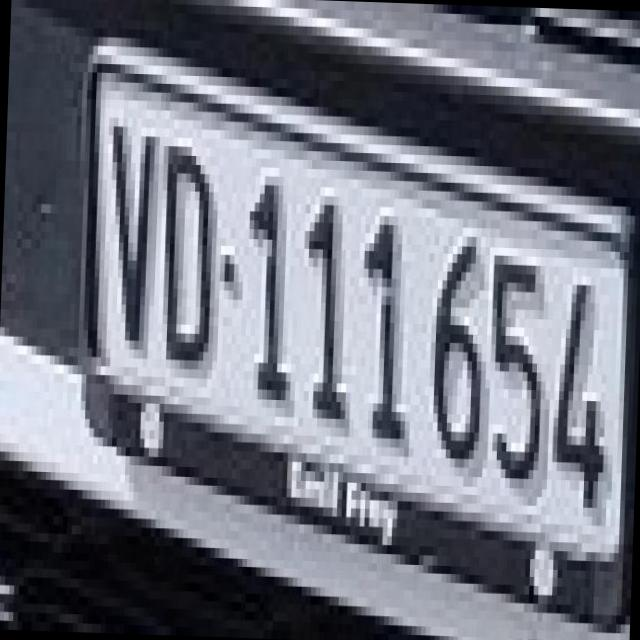1: (220, 148, 302, 408), (279, 168, 358, 428), (340, 188, 422, 438)
4: (536, 257, 614, 499)
5: (478, 237, 550, 479)
6: (412, 208, 487, 459)
D: (142, 110, 216, 360)
V: (82, 90, 162, 350)
